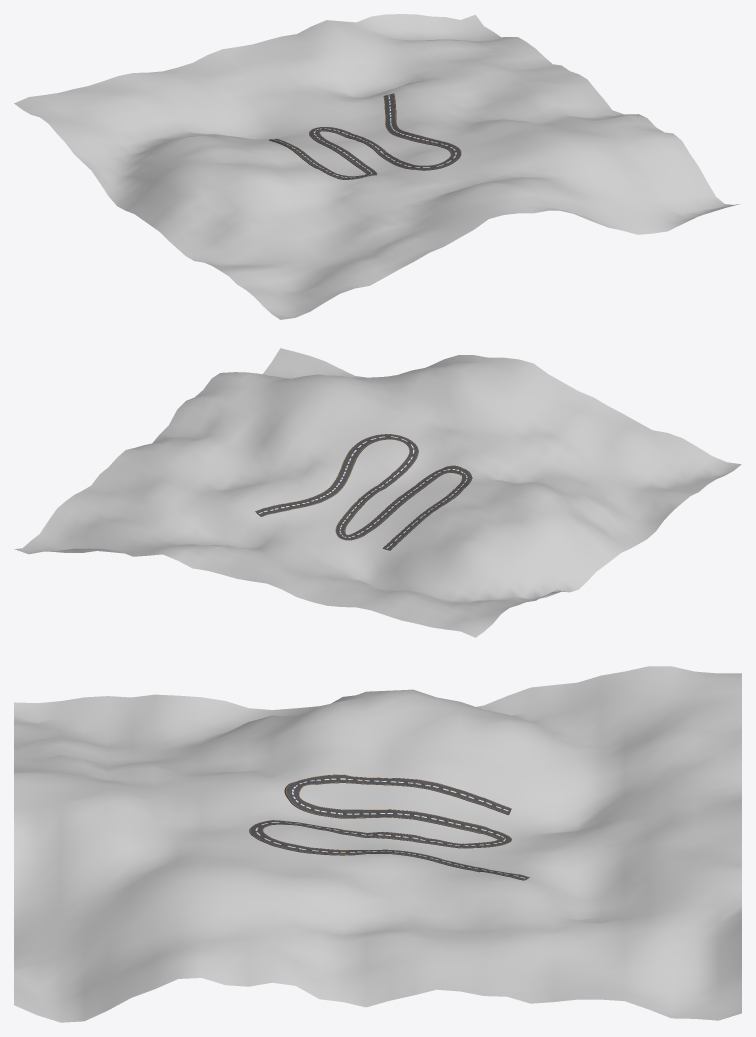
The model's file is Level11B1.fbx.
The picture shows the model from 3 angles, top to bottom: view 1: azimuth 30°, elevation 25°; view 2: azimuth 150°, elevation 25°; view 3: azimuth 270°, elevation 25°; orthographic projection. The views are drawn at different scales.
Visible parts, largest first — view 1: Landscape, Plane.002; view 2: Landscape, Plane.002; view 3: Landscape, Plane.002.
Part boxes in pixels (x1,y1,x2,y2): Landscape: (14, 14, 739, 319); Plane.002: (269, 93, 461, 179); Landscape: (14, 348, 741, 637); Plane.002: (255, 434, 472, 550); Landscape: (14, 666, 741, 1022); Plane.002: (249, 774, 529, 880).
Bounding box in the file's own units: 44350 × 5704 × 44350.
